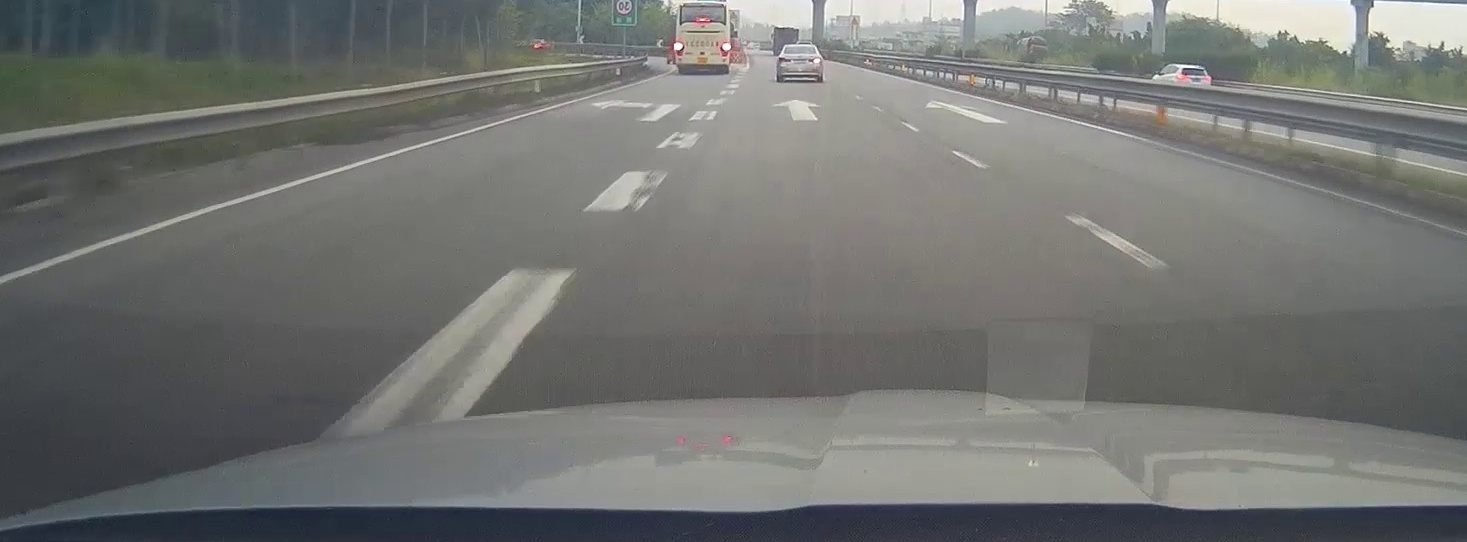L_light: (677, 41, 683, 56), (778, 57, 790, 62)
R_light: (721, 42, 728, 56), (809, 58, 821, 63)
T_light: (695, 18, 710, 22), (796, 46, 804, 49)
day-brake: (675, 1, 731, 73)
day-right: (776, 44, 823, 83)
